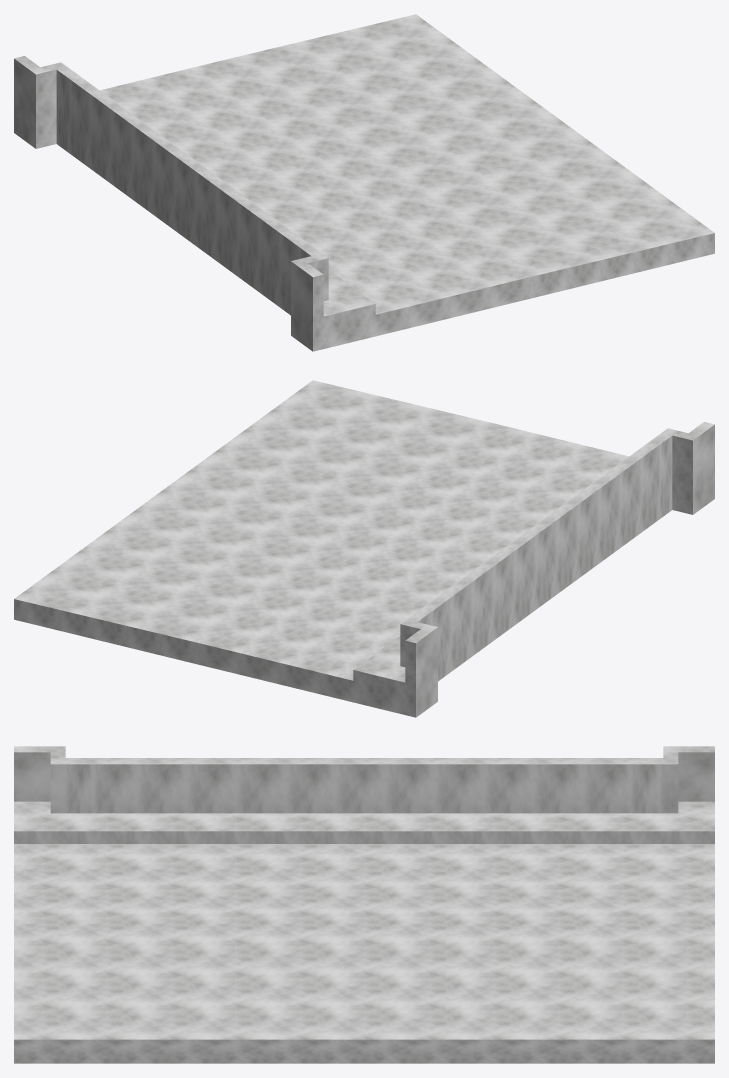
File: AMB_HT_R_KONKURI50.glb
3 views of the same model, one above another, from view 1: azimuth 30°, elevation 25°; view 2: azimuth 150°, elevation 25°; view 3: azimuth 270°, elevation 25° (orthographic). The views are drawn at different scales.
Visible parts, largest first — view 1: obj3; view 2: obj3; view 3: obj3.
Part boxes in pixels (left/top/right/bottom): obj3: left=14, top=14, right=714, bottom=351; obj3: left=14, top=380, right=714, bottom=717; obj3: left=14, top=746, right=714, bottom=1063.
Size of the model in its own units: 38.83 by 6.88 by 50.
1 material, 1 textured.
